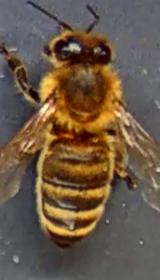varroa_mite: (52, 120, 82, 150)
